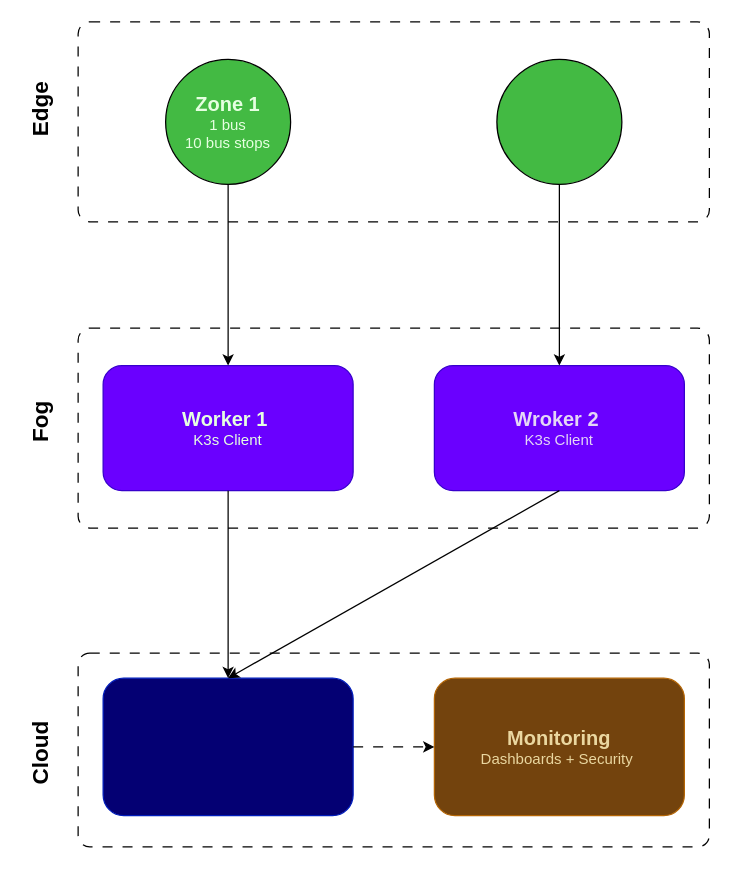
The diagram is 731 pixels wide and 869 high, and some of its shapes have lost their labels. The shapes that lost their labels are listed below. From the top down, each one's centre as x and y in pixels, then its label:
point 559,121: Zone 2 1 bus 10 bus stops
point 227,746: Master K3s Control Panel
